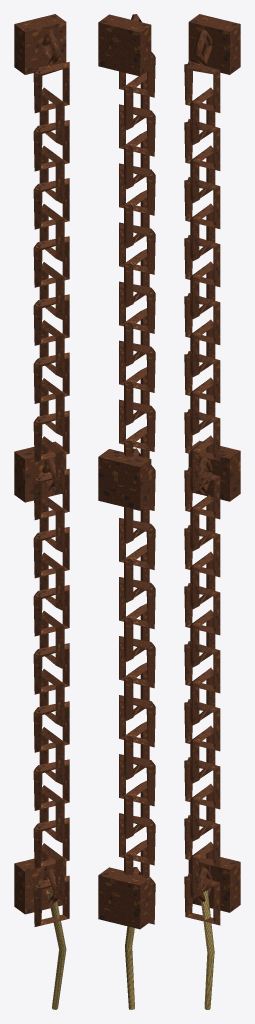
Rendered from prop_chain.glb.
3 renders of one model, left to right at view 1: azimuth 30°, elevation 25°; view 2: azimuth 150°, elevation 25°; view 3: azimuth 330°, elevation 25°, orthographic.
Visible parts, largest first — view 1: prop_chain; view 2: prop_chain; view 3: prop_chain.
Boxes of the visible parts, left/top/right/bottom form: prop_chain: left=14, top=14, right=69, bottom=1009; prop_chain: left=98, top=14, right=155, bottom=1009; prop_chain: left=184, top=14, right=240, bottom=1009.
Bounding box in the file's own units: 0.22 × 5 × 0.2538.
Materials: 2 (2 with a texture image).
